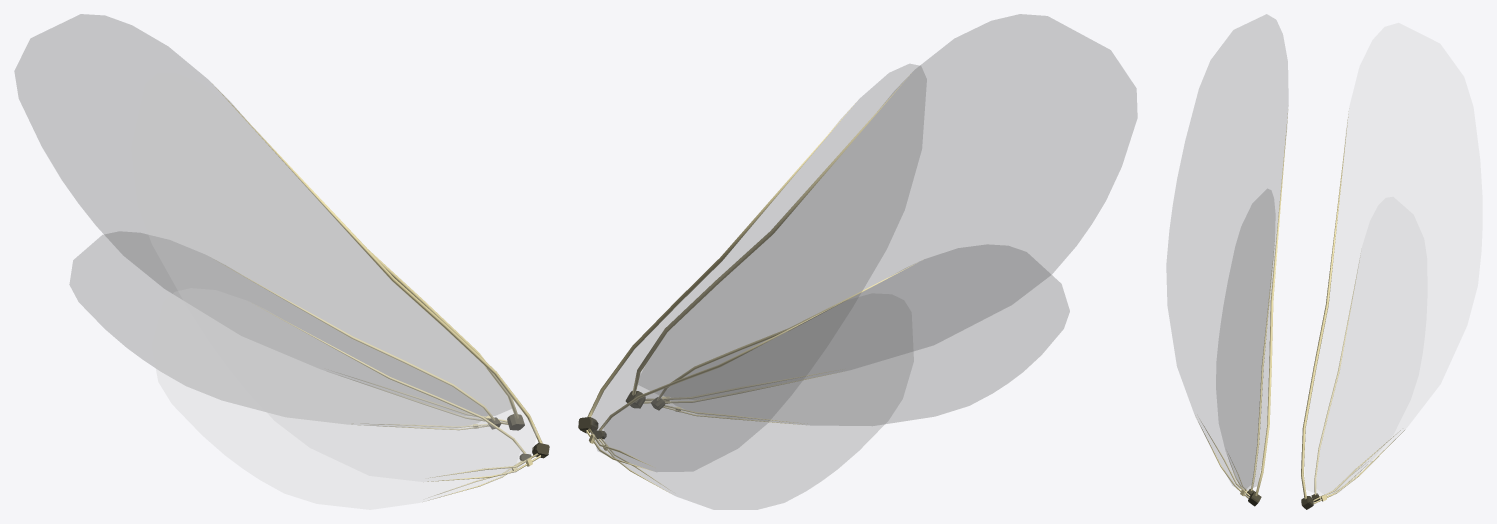
File: SeparatedWings.fbx
3 renders of one model, left to right at view 1: azimuth 30°, elevation 25°; view 2: azimuth 150°, elevation 25°; view 3: azimuth 270°, elevation 25°, orthographic. The views are drawn at different scales.
Visible parts, largest first — view 1: wings_top.002, wings_top.001, wings_bottom.002, wings_bottom.001; view 2: wings_top.002, wings_top.001, wings_bottom.001, wings_bottom.002; view 3: wings_top.001, wings_top.002, wings_bottom.001, wings_bottom.002.
Part boxes in pixels (x1=…): wings_top.002: x1=131, y1=73, x2=549, y2=481; wings_top.001: x1=14, y1=14, x2=524, y2=430; wings_bottom.002: x1=152, y1=288, x2=531, y2=509; wings_bottom.001: x1=69, y1=231, x2=501, y2=430; wings_top.002: x1=625, y1=14, x2=1137, y2=408; wings_top.001: x1=578, y1=64, x2=926, y2=471; wings_bottom.001: x1=592, y1=293, x2=913, y2=509; wings_bottom.002: x1=651, y1=244, x2=1069, y2=425; wings_top.001: x1=1301, y1=23, x2=1482, y2=509; wings_top.002: x1=1166, y1=14, x2=1288, y2=506; wings_bottom.001: x1=1311, y1=197, x2=1426, y2=502; wings_bottom.002: x1=1216, y1=189, x2=1274, y2=496.
Size of the model in its own units: 300 by 297 by 243.
